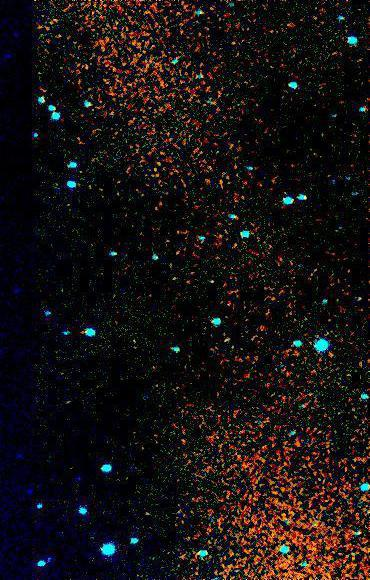star: (183, 460, 213, 490)
